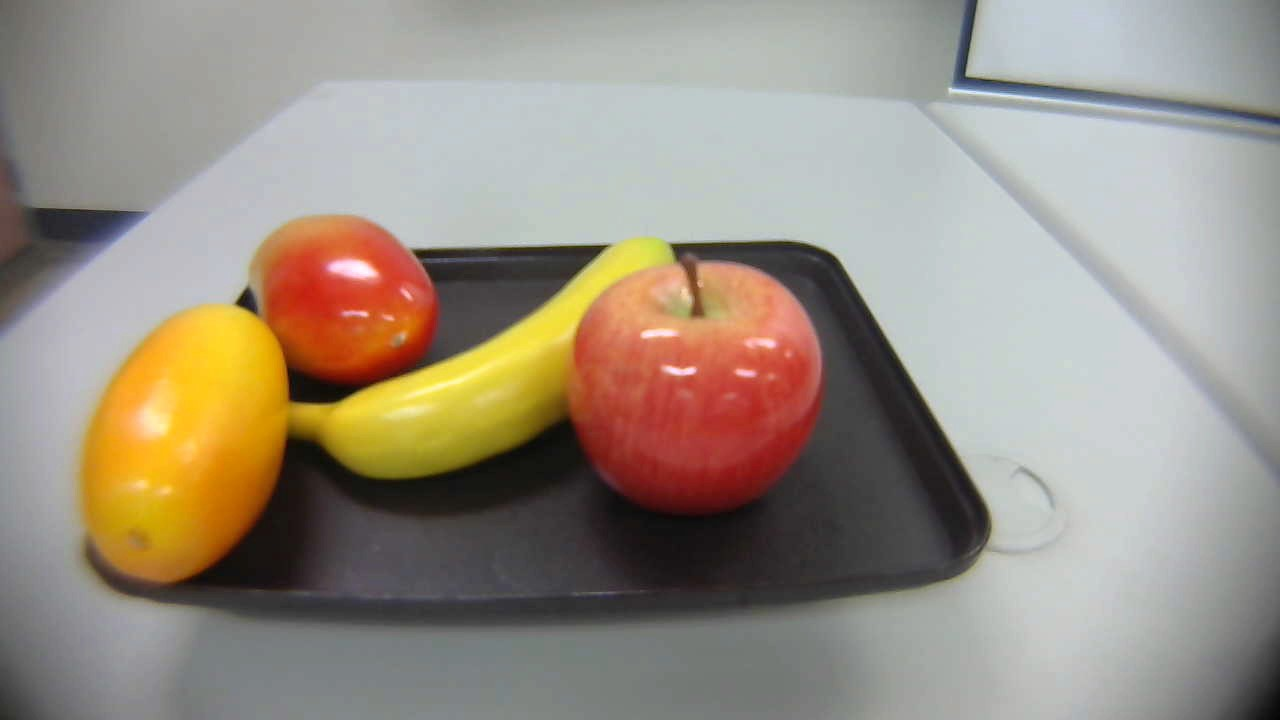banana: (268, 238, 710, 504)
red apple: (570, 254, 832, 523)
red mango: (245, 213, 460, 381)
yellow mango: (75, 301, 302, 581)
